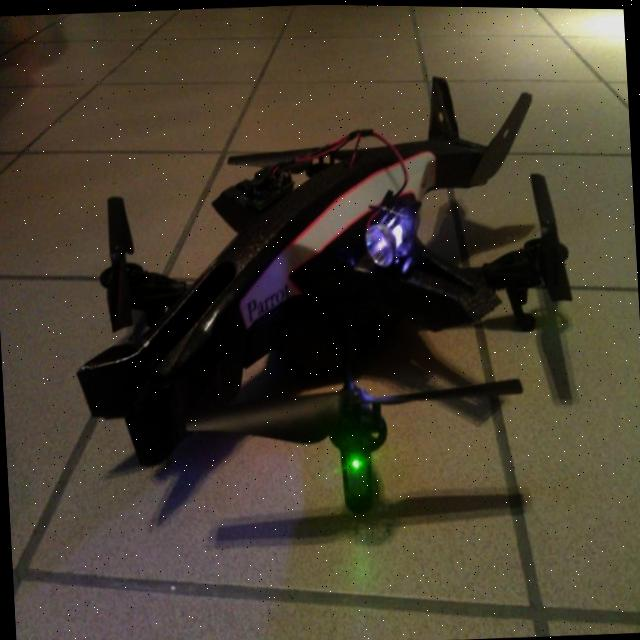drone: (84, 86, 602, 547)
